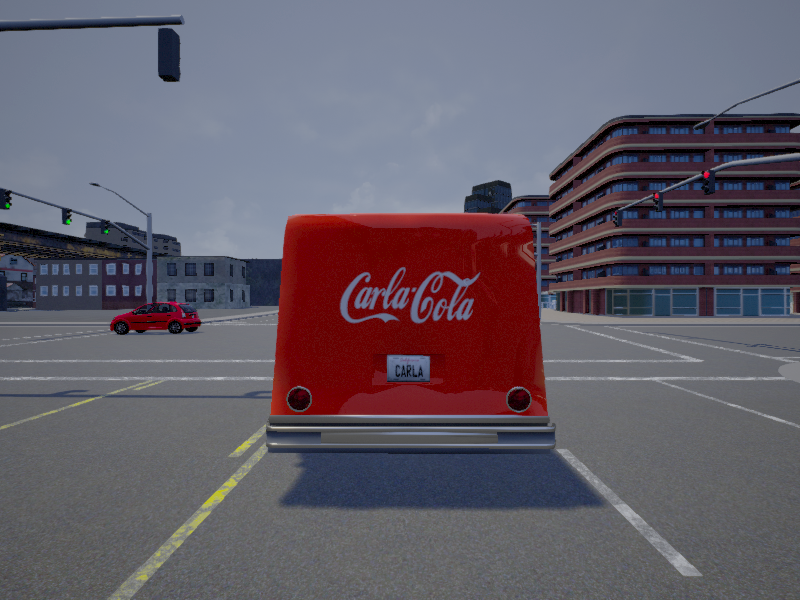benign: (266, 214, 559, 453), (108, 302, 202, 333)
